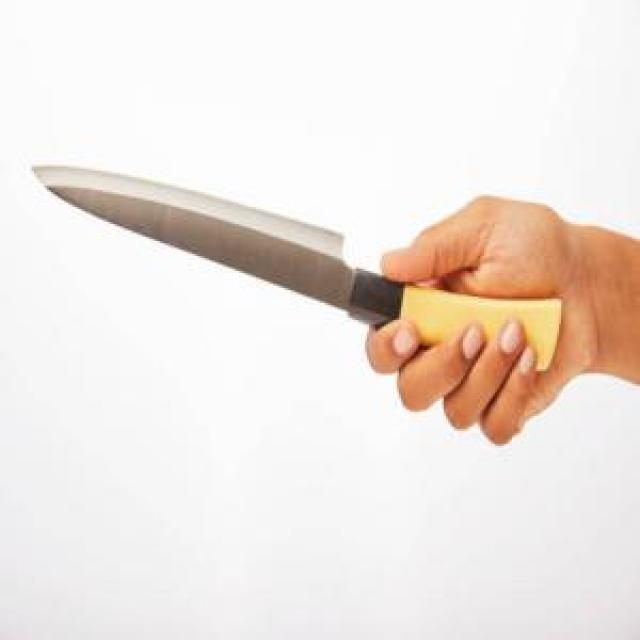knife: (30, 162, 566, 392)
